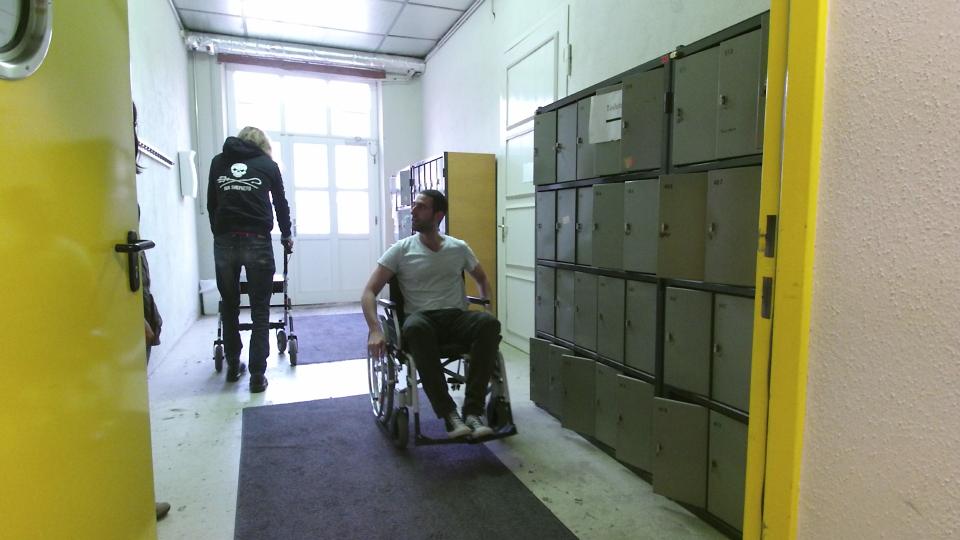wheelchair: (354, 183, 522, 455)
